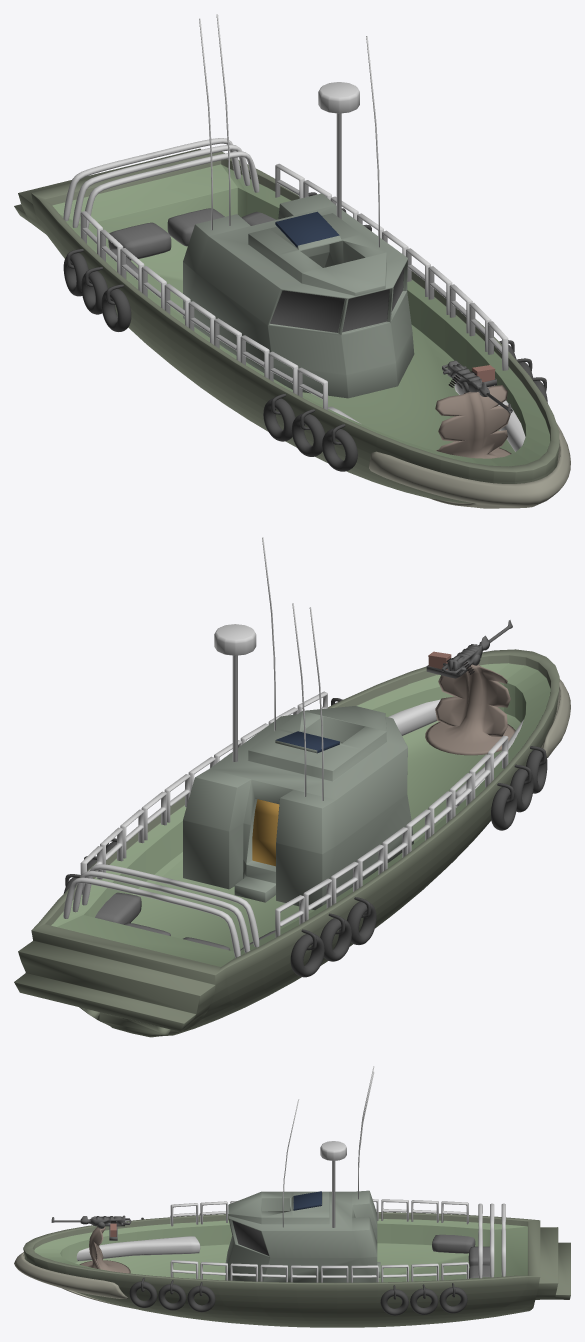
File: RiverBoatFreeFinished1.fbx
The picture shows the model from 3 angles, top to bottom: view 1: azimuth 30°, elevation 25°; view 2: azimuth 150°, elevation 25°; view 3: azimuth 270°, elevation 25°; orthographic projection. The views are drawn at different scales.
Visible parts, largest first — view 1: Base, Cabin, Ram, RightProt, BackStab, Turret, LeftProt, RightSideGum, BackProp, RightSideGum.001, Radar, Props.001 (+2 smaller); view 2: Base, Cabin, Turret, RightProt, BackStab, LeftProt, RightSideGum.001, RightSideGum, Radar, BackProp, Door, Props.001 (+3 smaller); view 3: Base, Cabin, LeftProt, Ram, RightForwProp, LeftSideGum.001, LeftSideGum, RightProt, BackProp, BackStab, Turret, Radar (+2 smaller).
Boxes of the visible parts, left/top/right/bottom form: Base: left=14, top=148, right=559, bottom=503; Cabin: left=183, top=193, right=414, bottom=398; Ram: left=369, top=423, right=570, bottom=508; RightProt: left=80, top=211, right=327, bottom=410; BackStab: left=63, top=138, right=259, bottom=228; Turret: left=435, top=385, right=511, bottom=458; LeftProt: left=275, top=163, right=508, bottom=370; RightSideGum: left=263, top=394, right=357, bottom=471; BackProp: left=108, top=208, right=276, bottom=273; RightSideGum.001: left=63, top=249, right=131, bottom=331; Radar: left=318, top=82, right=359, bottom=219; Props.001: left=199, top=14, right=379, bottom=247; Base: left=14, top=649, right=559, bottom=1037; Cabin: left=183, top=706, right=413, bottom=910; Turret: left=425, top=664, right=515, bottom=755; RightProt: left=275, top=735, right=508, bottom=937; BackStab: left=63, top=864, right=259, bottom=957; LeftProt: left=80, top=691, right=327, bottom=894; RightSideGum.001: left=290, top=897, right=376, bottom=977; RightSideGum: left=491, top=746, right=547, bottom=830; Radar: left=214, top=624, right=256, bottom=761; BackProp: left=95, top=892, right=275, bottom=950; Door: left=252, top=799, right=279, bottom=866; Props.001: left=262, top=537, right=323, bottom=800; Base: left=23, top=1212, right=570, bottom=1327; Cabin: left=225, top=1190, right=380, bottom=1282; LeftProt: left=170, top=1260, right=468, bottom=1282; Ram: left=14, top=1252, right=132, bottom=1308; RightForwProp: left=76, top=1236, right=200, bottom=1261; LeftSideGum.001: left=380, top=1283, right=467, bottom=1315; LeftSideGum: left=129, top=1277, right=215, bottom=1312; RightProt: left=170, top=1199, right=468, bottom=1226; BackProp: left=432, top=1234, right=490, bottom=1278; BackStab: left=478, top=1203, right=505, bottom=1278; Turret: left=79, top=1226, right=130, bottom=1273; Radar: left=320, top=1141, right=346, bottom=1227.
Bounding box in the file's own units: 691 × 930 × 1992.
